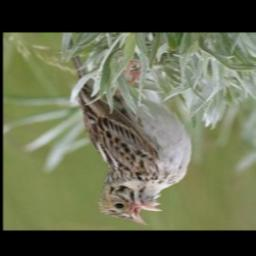Sparrow: (67, 39, 193, 226)
